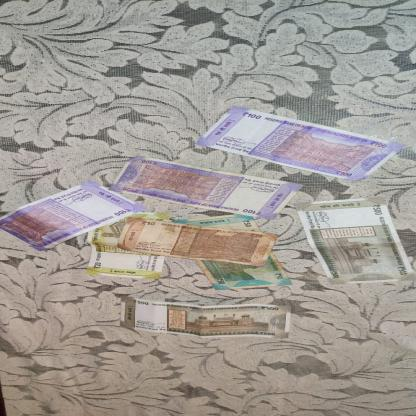New100Back: (195, 105, 407, 181), (108, 155, 308, 220), (0, 180, 149, 252)
New10Back: (117, 217, 280, 267)
New20Back: (85, 212, 166, 279)
New500Back: (294, 196, 415, 285), (120, 296, 292, 338)
New50Back: (173, 213, 293, 290)
